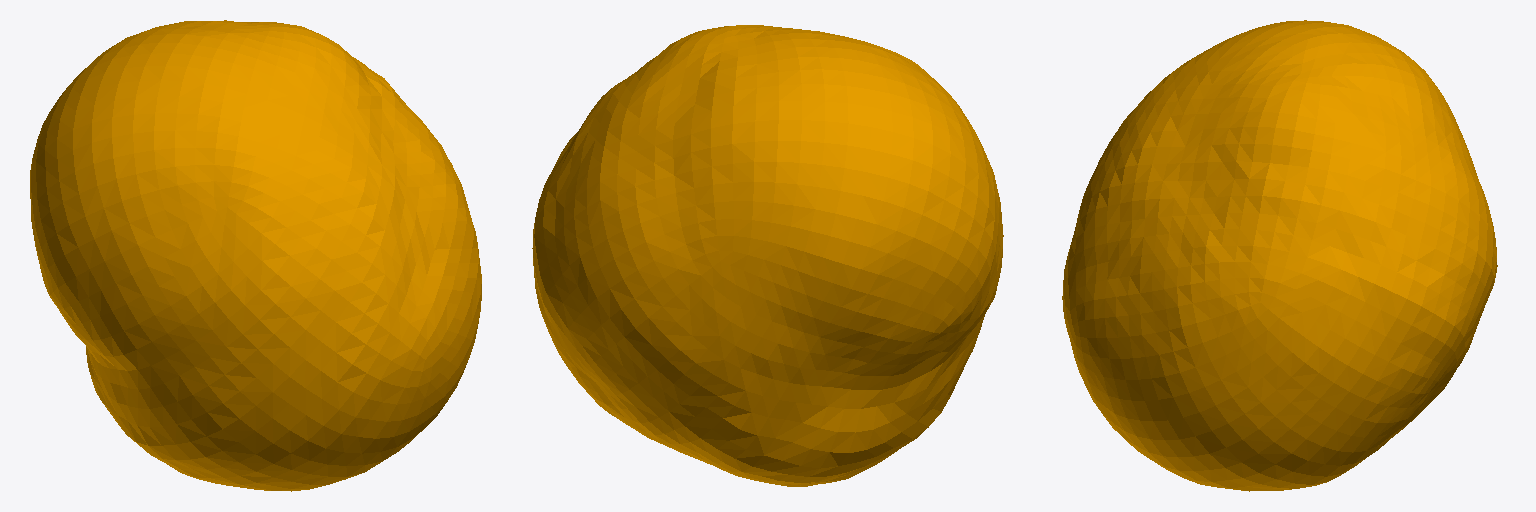
The robot description file, URDF, robot "rock":
<?xml version="1.0" ?>
<robot name="rock">
  <link name="rock">
    <inertial>
      <mass value="0.319"/>
      <origin rpy="0 0 0" xyz="0 0 0"/>
      <inertia ixx="0.000319" ixy="0" ixz="0" iyy="0.000319" iyz="0" izz="0.000319"/>
    </inertial>
    <collision name="rock_collision">
      <origin rpy="0 0 0" xyz="0 0 0"/>
      <geometry>
        <mesh filename="package://rocks/visual/118.dae" scale="1 1 1"/>
      </geometry>
    </collision>
    <visual name="rock_visual">
      <origin rpy="0 0 0" xyz="0 0 0"/>
      <geometry>
        <mesh filename="package://rocks/visual/118.dae" scale="1 1 1"/>
      </geometry>
    </visual>
  </link>
</robot>

--- What the picture shows (computed from the rendered views, not written in the file) ---
Views: 3 orthographic renders of the robot side by side, from view 1: azimuth 30°, elevation 25°; view 2: azimuth 150°, elevation 25°; view 3: azimuth 270°, elevation 25°.
Model rock with 1 links and 0 joints (none), rooted at rock, posed all joints at 0.
Links seen in each view (by area): view 1: rock; view 2: rock; view 3: rock.
Boxes of the visible links, bbox=[...] form: rock: bbox=[30, 20, 481, 491]; rock: bbox=[532, 25, 1003, 486]; rock: bbox=[1062, 20, 1497, 491].
Bounding box of the posed robot: 0.0669 × 0.0654 × 0.0684 m (x, y, z).
Meshes: 1 distinct files referenced, 1 mesh visuals loaded (1 Collada DAE).